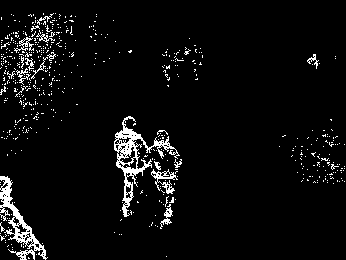person: (112, 111, 151, 219), (1, 174, 46, 260), (147, 128, 182, 230)
